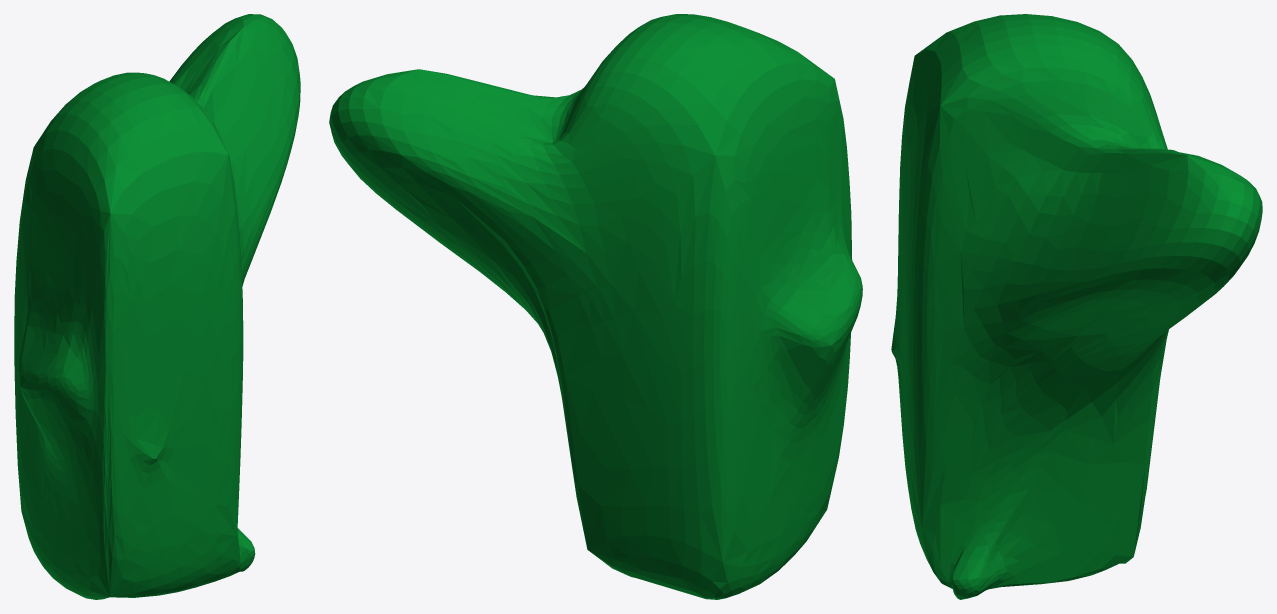
3 renders of one model, left to right at view 1: azimuth 30°, elevation 25°; view 2: azimuth 150°, elevation 25°; view 3: azimuth 270°, elevation 25°, orthographic. The views are drawn at different scales.
Visible parts, largest first — view 1: 042_Cube.175; view 2: 042_Cube.175; view 3: 042_Cube.175.
Boxes of the visible parts, x1,y1,x2,y2 form: 042_Cube.175: [14, 14, 300, 599]; 042_Cube.175: [329, 14, 862, 599]; 042_Cube.175: [891, 14, 1262, 599].
Size of the model in its own units: 9.13 by 11.74 by 7.23.
